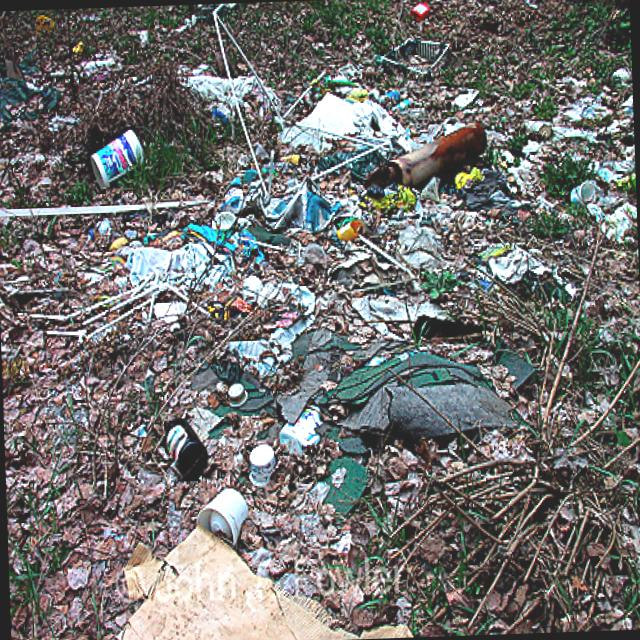garbage: (83, 46, 640, 544)
